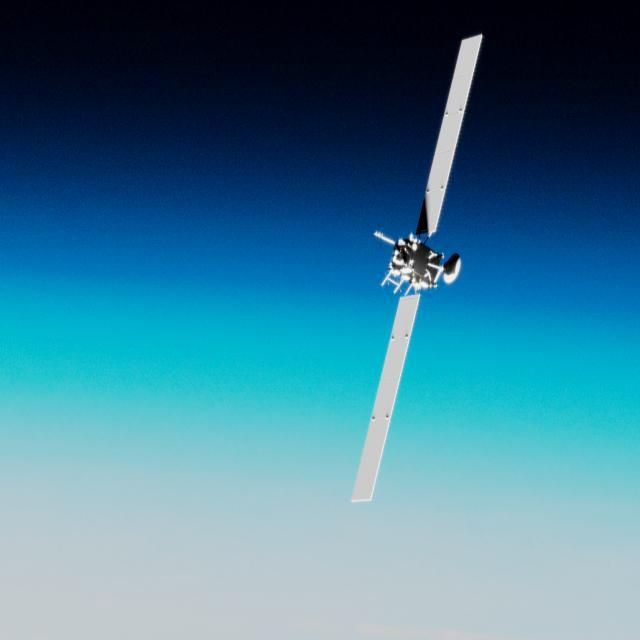satellite: (345, 22, 500, 506)
